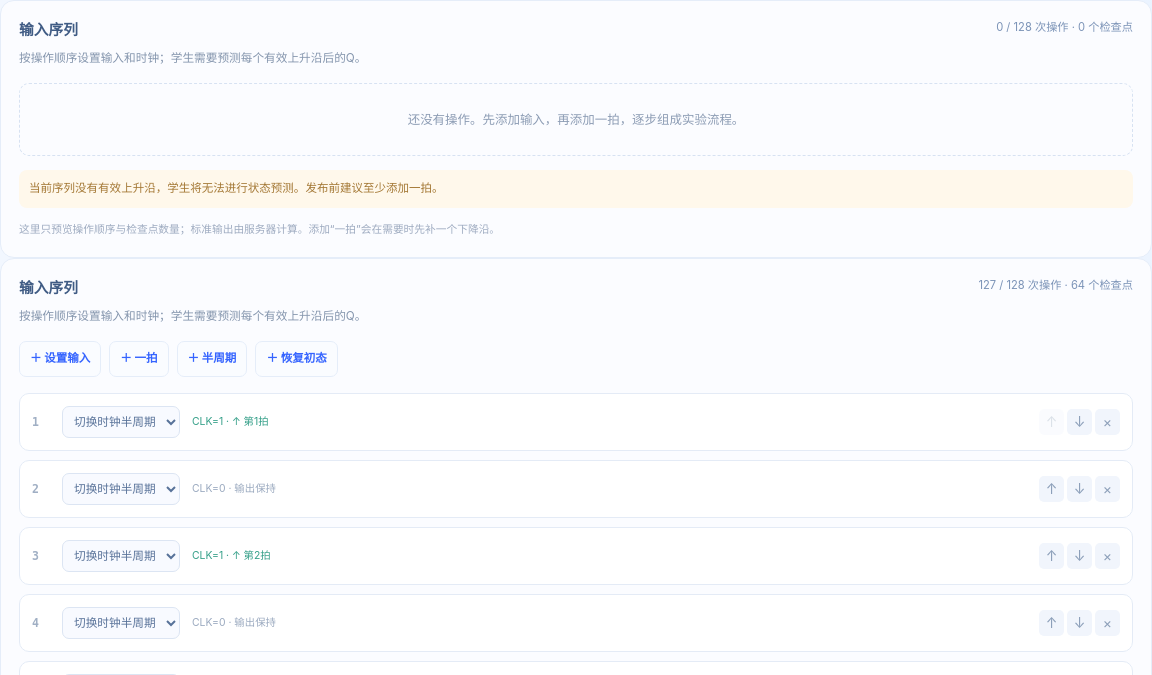
it: 可视化输入序列编辑 › 只读不显示编辑按钮，128边界一拍失败且保持原序列
What coordinates should you click on to do the following:
click the button "＋ 一拍"
I would click on:
 (139, 359)
Its box is [109,341,169,377].
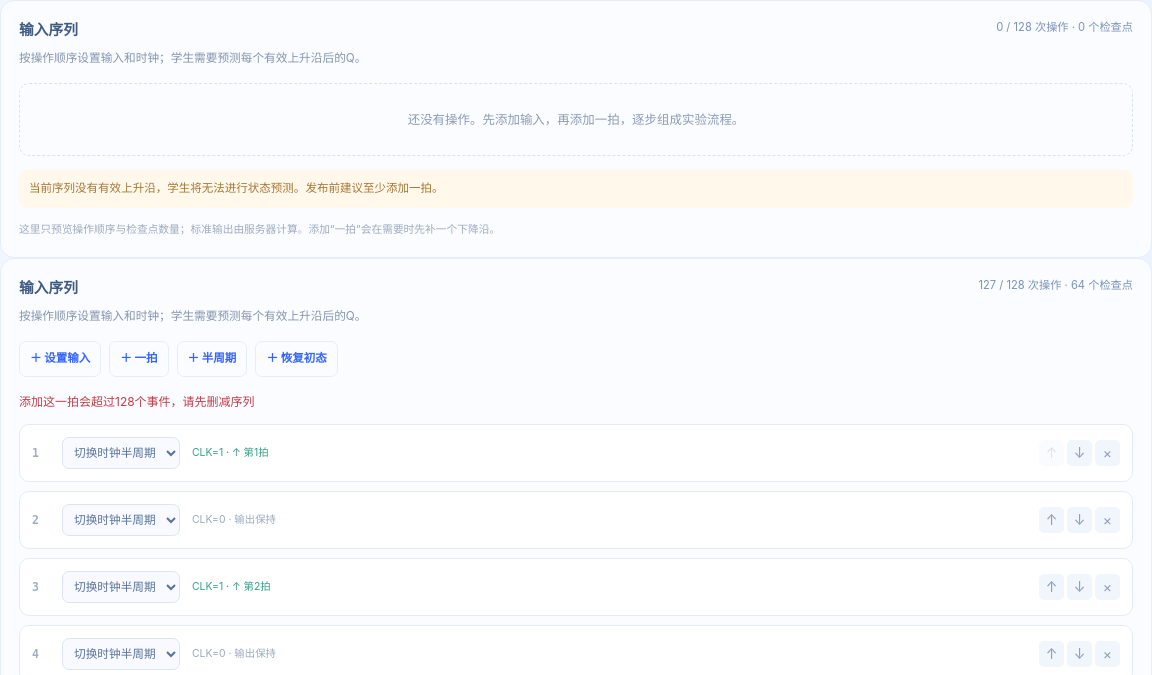
Now the message "添加这一拍会超过128个事件，请先删减序列" is shown, box [19,394,255,409]
